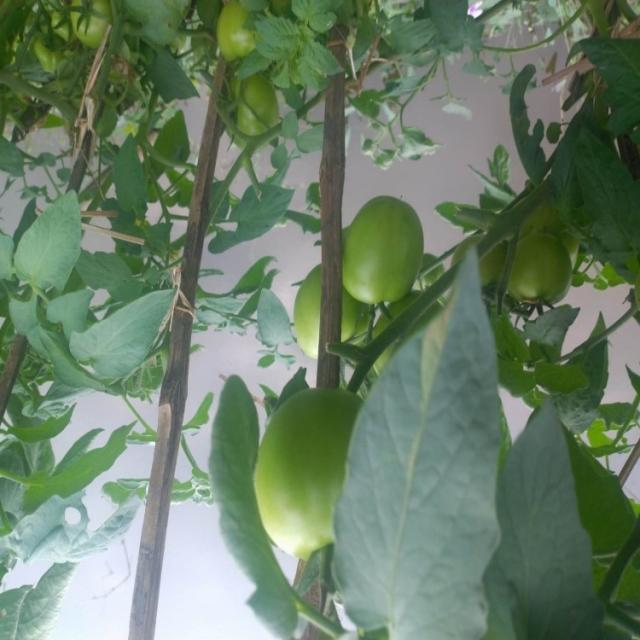tomato: (228, 379, 373, 550), (285, 265, 390, 380), (332, 189, 431, 304), (503, 234, 589, 328), (220, 73, 293, 146), (206, 1, 268, 80), (62, 1, 137, 59), (25, 31, 83, 72), (39, 1, 91, 46)
